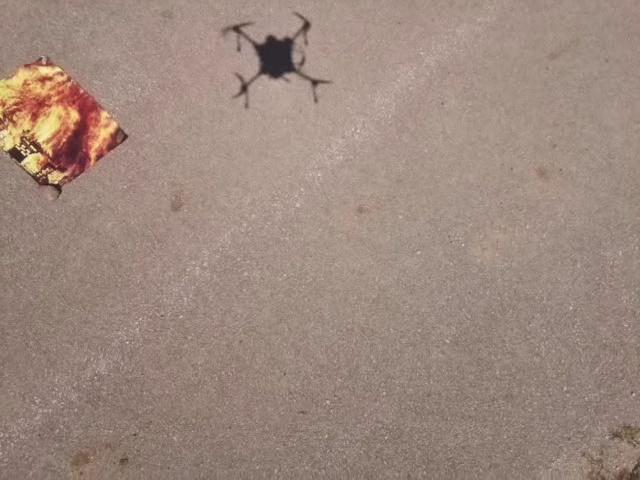fire-poster: (0, 53, 129, 199)
